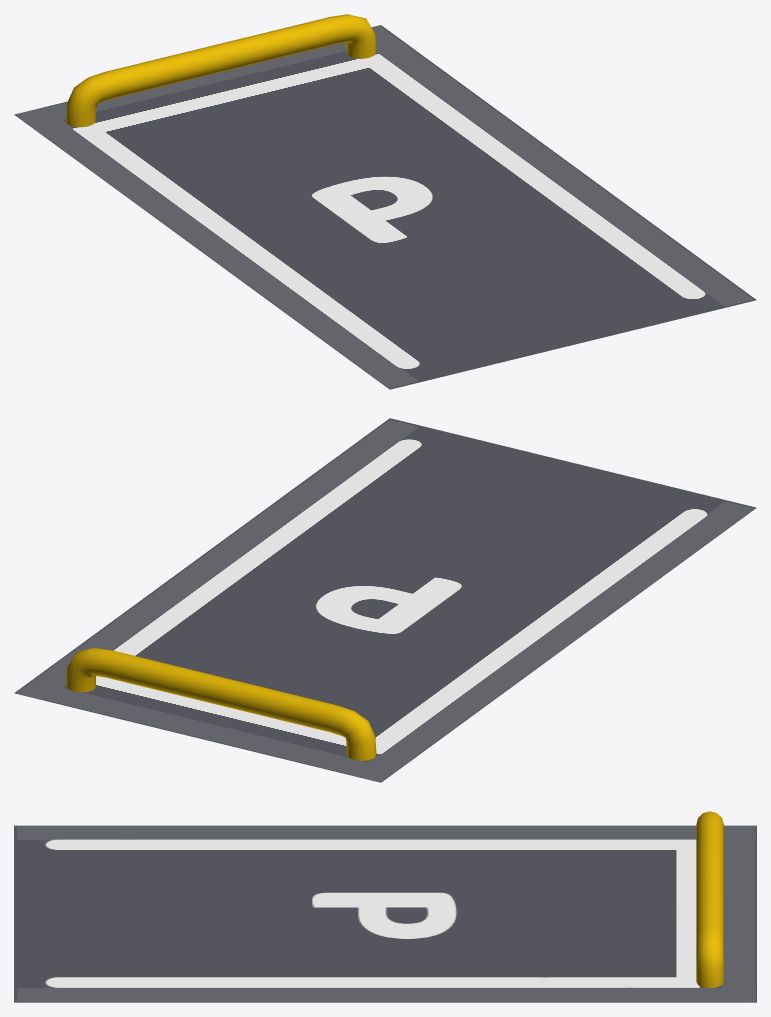
The model's file is Park_New.fbx.
The picture shows the model from 3 angles, top to bottom: view 1: azimuth 30°, elevation 25°; view 2: azimuth 150°, elevation 25°; view 3: azimuth 270°, elevation 25°; orthographic projection.
Visible parts, largest first — view 1: Park_01, Park_02; view 2: Park_01, Park_02; view 3: Park_01, Park_02.
Part boxes in pixels (left/top/right/bottom): Park_01: left=14, top=25, right=756, bottom=389; Park_02: left=66, top=14, right=376, bottom=127; Park_01: left=14, top=418, right=756, bottom=782; Park_02: left=66, top=648, right=376, bottom=760; Park_01: left=14, top=825, right=756, bottom=1002; Park_02: left=696, top=811, right=723, bottom=987.
Bounding box in the file's own units: 290 × 31.69 × 514.
2 materials, 1 textured.
